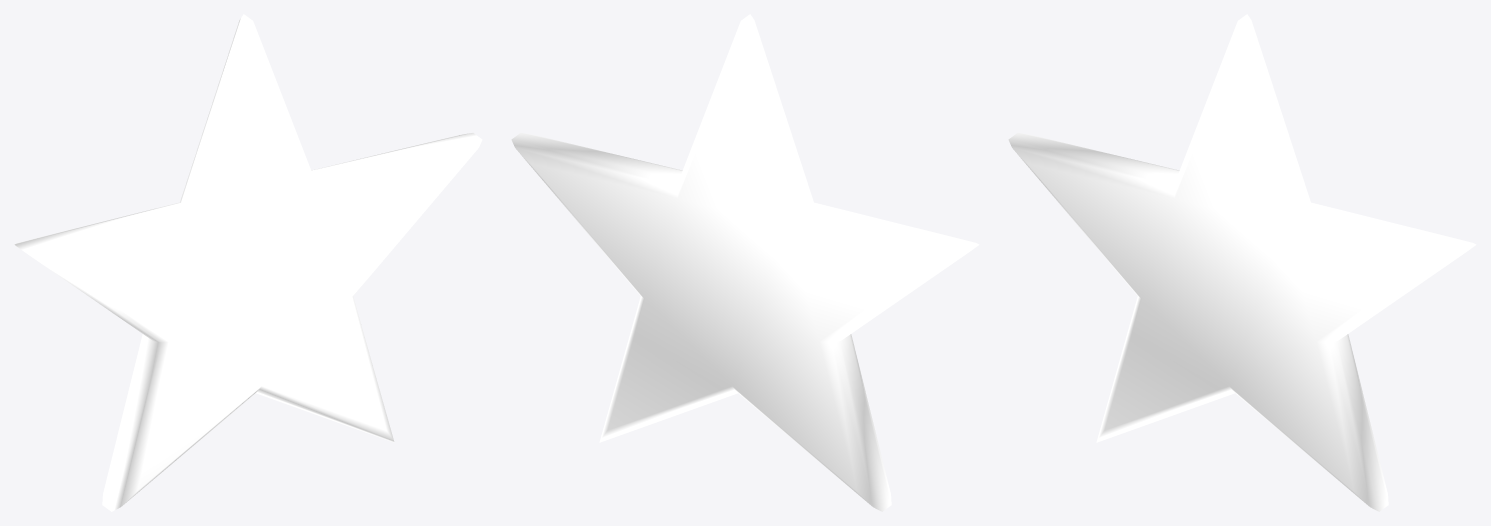
3 renders of one model, left to right at view 1: azimuth 30°, elevation 25°; view 2: azimuth 150°, elevation 25°; view 3: azimuth 330°, elevation 25°, orthographic.
Parts seen in each view (by area): view 1: IndicatorStarWhite; view 2: IndicatorStarWhite; view 3: IndicatorStarWhite.
Part boxes in pixels (x1,y1,x2,y2): IndicatorStarWhite: [14, 14, 482, 511]; IndicatorStarWhite: [511, 14, 979, 511]; IndicatorStarWhite: [1008, 14, 1476, 511].
Bounding box in the file's own units: 0.5617 × 0.5341 × 0.0567.
1 material, 1 textured.
